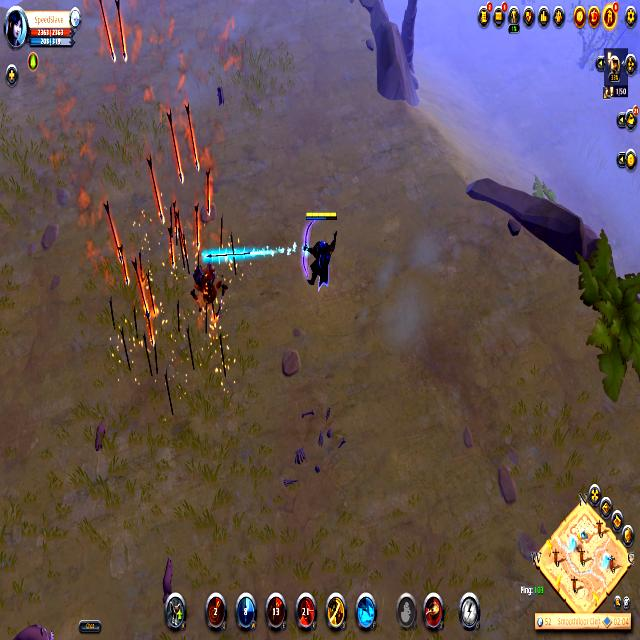red: (298, 206, 342, 300)
